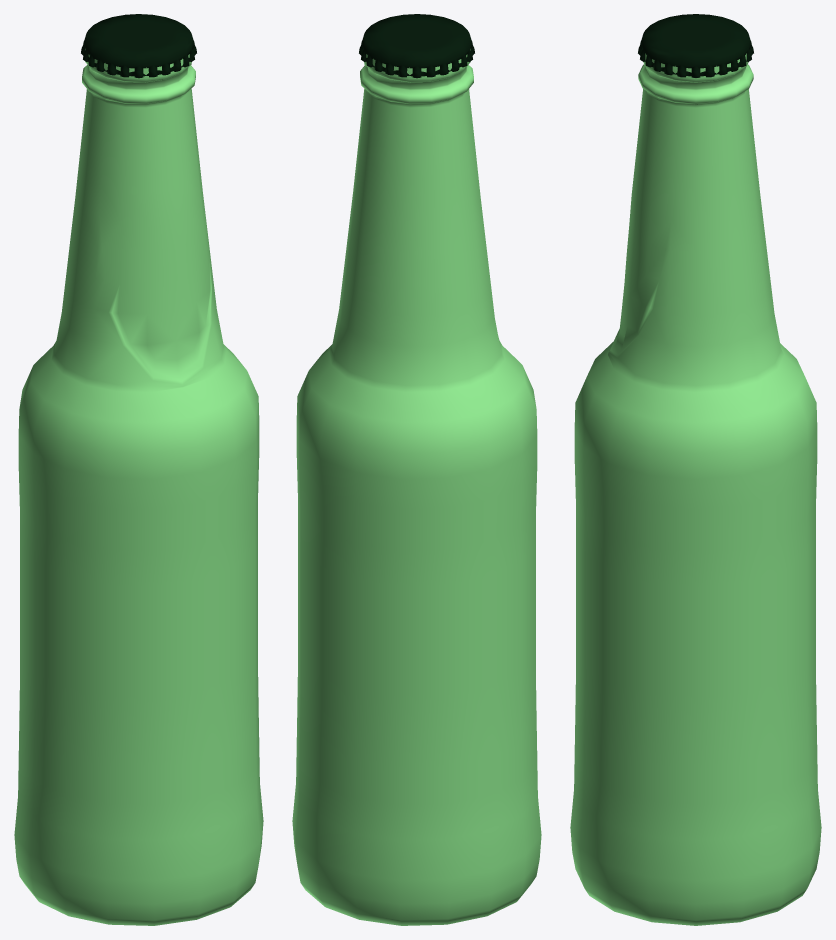
File: BeerBottle.obj
3 views of the same model, side by side, from view 1: azimuth 30°, elevation 25°; view 2: azimuth 150°, elevation 25°; view 3: azimuth 270°, elevation 25° (orthographic).
Visible parts, largest first — view 1: GARRAFA_VIDRO_FORA_0, GARRAFA_TAMPA_0; view 2: GARRAFA_VIDRO_FORA_0, GARRAFA_TAMPA_0; view 3: GARRAFA_VIDRO_FORA_0, GARRAFA_TAMPA_0.
Boxes of the visible parts, x1,y1,x2,y2 form: GARRAFA_VIDRO_FORA_0: [14, 49, 263, 925]; GARRAFA_TAMPA_0: [81, 14, 196, 78]; GARRAFA_VIDRO_FORA_0: [292, 49, 541, 925]; GARRAFA_TAMPA_0: [359, 14, 474, 78]; GARRAFA_VIDRO_FORA_0: [570, 53, 821, 925]; GARRAFA_TAMPA_0: [638, 14, 753, 77].
Size of the model in its own units: 12.73 by 47.38 by 12.73.
